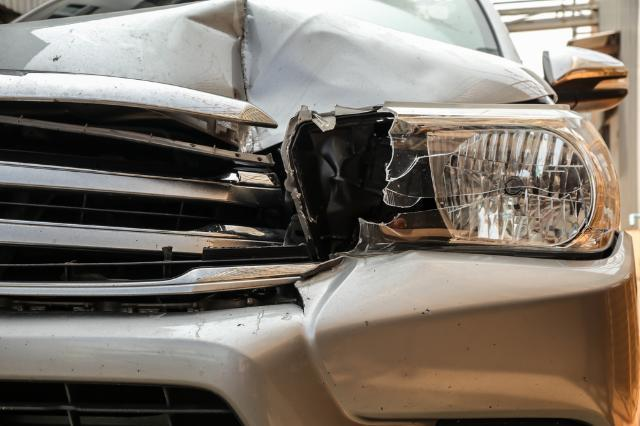crack: (294, 285, 305, 314)
dent: (183, 0, 441, 149)
lamp broken: (284, 100, 619, 259)
rub: (0, 3, 560, 156)
